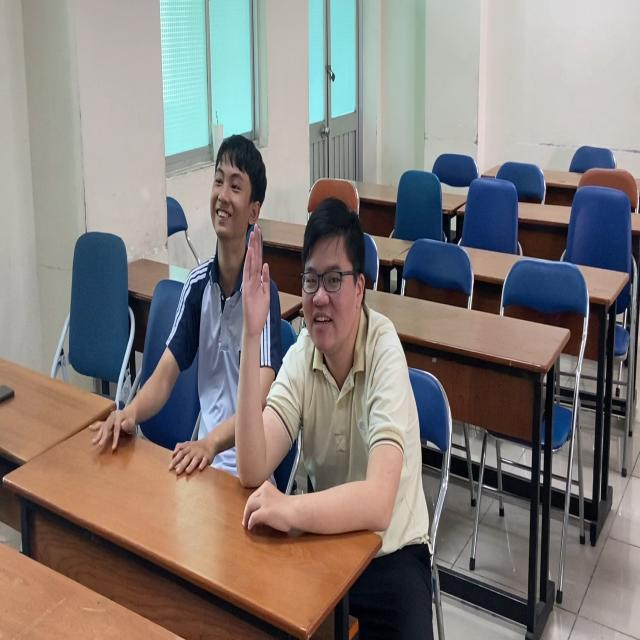raise_hand: (235, 189, 420, 556)
